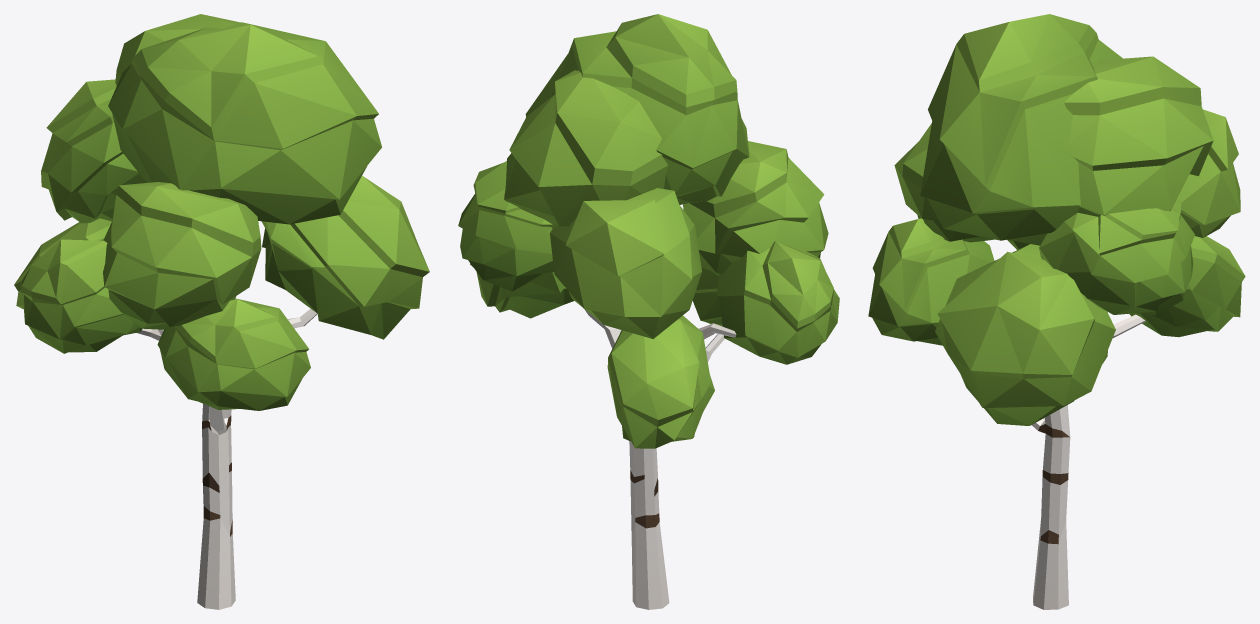
The model's file is tree.glb.
3 views of the same model, side by side, from view 1: azimuth 30°, elevation 25°; view 2: azimuth 150°, elevation 25°; view 3: azimuth 270°, elevation 25° (orthographic). The views are drawn at different scales.
Visible parts, largest first — view 1: PP_Birch_Tree_06.001; view 2: PP_Birch_Tree_06.001; view 3: PP_Birch_Tree_06.001.
Boxes of the visible parts, box(x1,y1,x2,y2) form: PP_Birch_Tree_06.001: box(14, 14, 429, 609); PP_Birch_Tree_06.001: box(458, 14, 839, 609); PP_Birch_Tree_06.001: box(868, 14, 1245, 609).
Size of the model in its own units: 5.89 by 8.86 by 5.16.
Materials: 1 (1 with a texture image).
